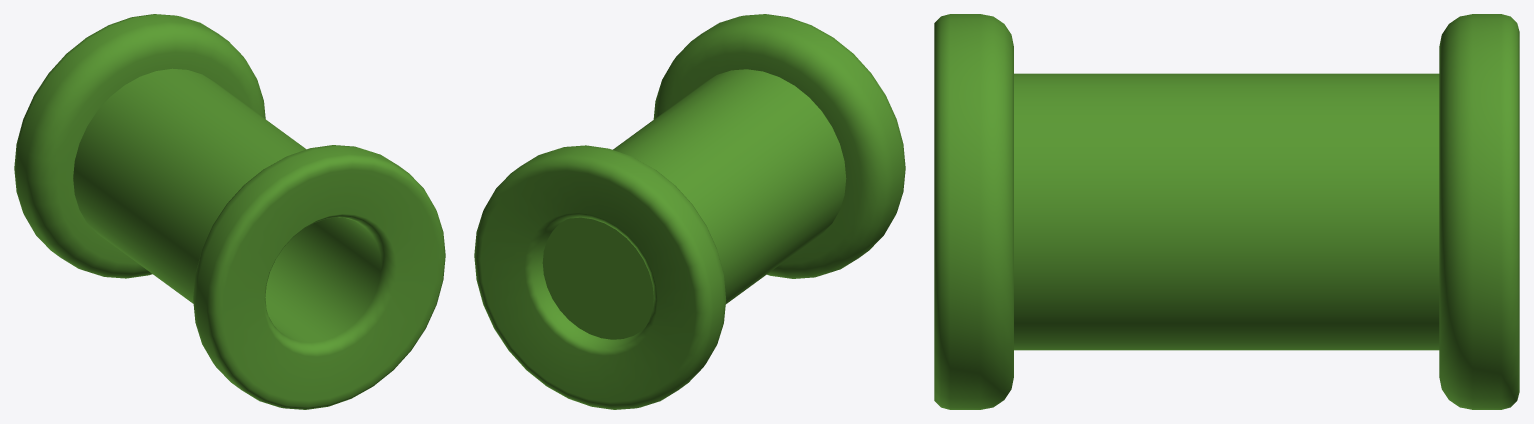
File: SkeinMesh.fbx
The picture shows the model from 3 angles, left to right: view 1: azimuth 30°, elevation 25°; view 2: azimuth 150°, elevation 25°; view 3: azimuth 270°, elevation 25°; orthographic projection. The views are drawn at different scales.
Parts seen in each view (by area): view 1: ObjRender; view 2: ObjRender; view 3: ObjRender.
Boxes of the visible parts, x1,y1,x2,y2 form: ObjRender: (14,14,445,409); ObjRender: (474,14,905,409); ObjRender: (934,14,1519,409).
Size of the model in its own units: 0.342 by 0.342 by 0.5051.
